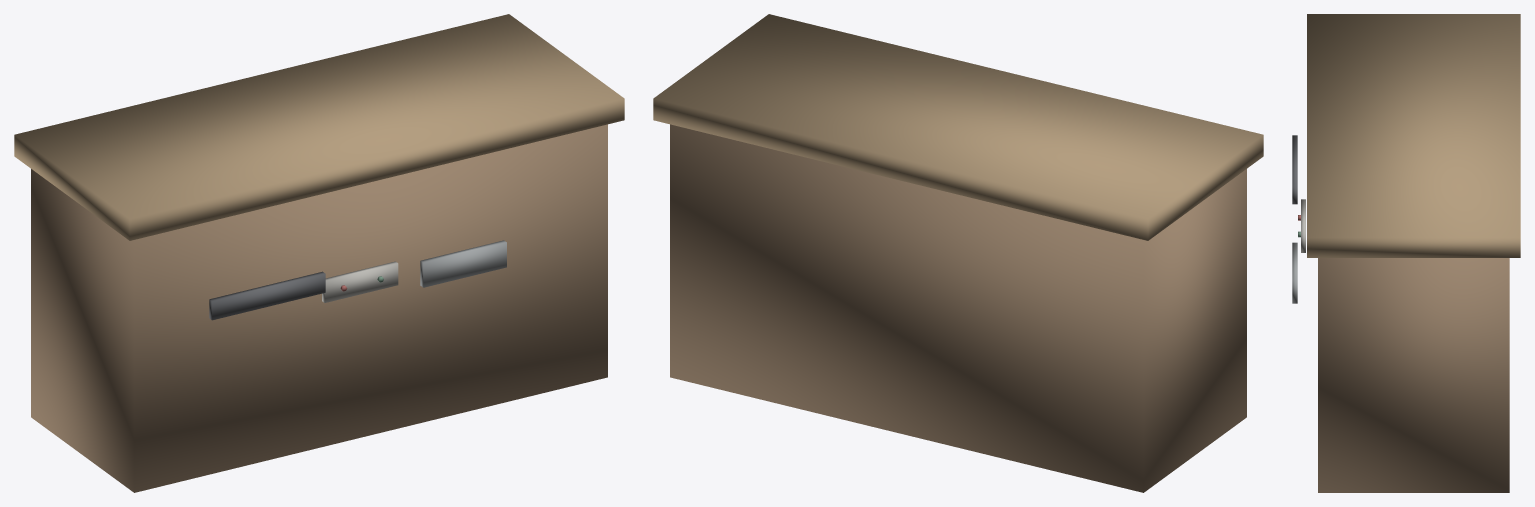
Rendered from funeral_reception_counter__weathered.glb.
The picture shows the model from 3 angles, left to right: view 1: azimuth 30°, elevation 25°; view 2: azimuth 150°, elevation 25°; view 3: azimuth 270°, elevation 25°; orthographic projection. The views are drawn at different scales.
Parts seen in each view (by area): view 1: world; view 2: world; view 3: world.
Part boxes in pixels (bbox=[...]): world: bbox=[14, 14, 624, 492]; world: bbox=[653, 14, 1263, 492]; world: bbox=[1292, 14, 1520, 492].
Size of the model in its own units: 1.88 by 1.02 by 0.812.
